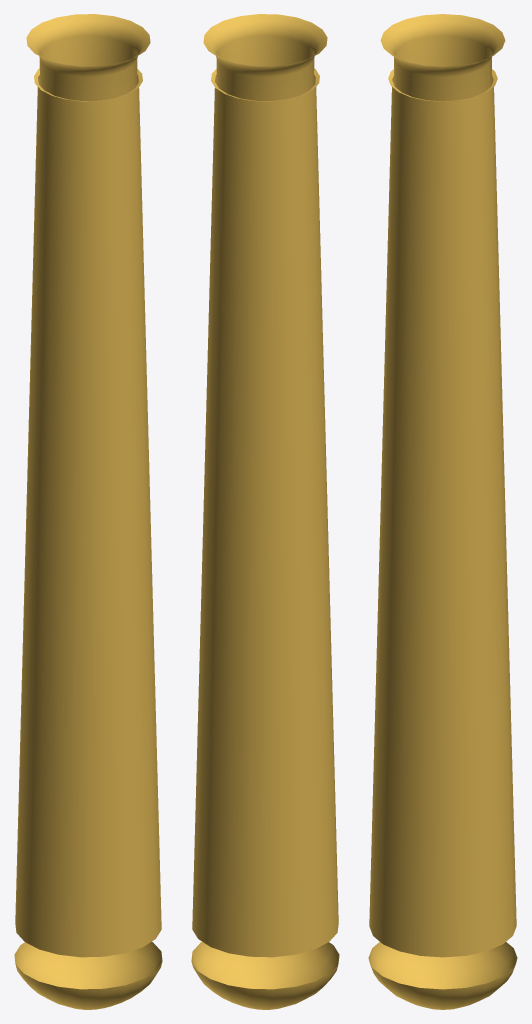
3 views of the same model, side by side, from view 1: azimuth 30°, elevation 25°; view 2: azimuth 150°, elevation 25°; view 3: azimuth 270°, elevation 25° (orthographic).
Visible parts, largest first — view 1: Line021; view 2: Line021; view 3: Line021.
Part boxes in pixels (x1,y1,x2,y2): Line021: (14,14,162,1009); Line021: (191,14,339,1009); Line021: (368,14,517,1009).
Bounding box in the file's own units: 760 × 5422 × 759.
